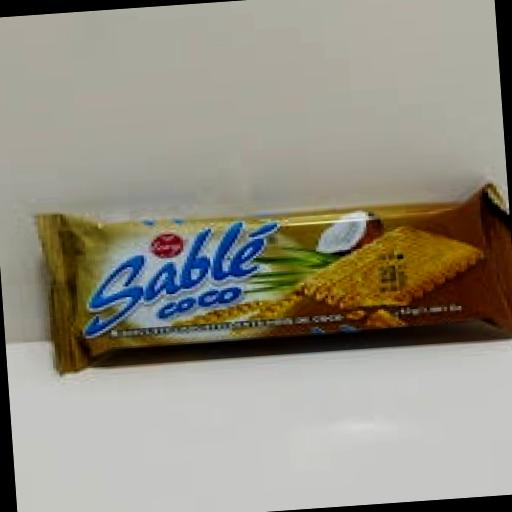sabl: (7, 131, 512, 413)
